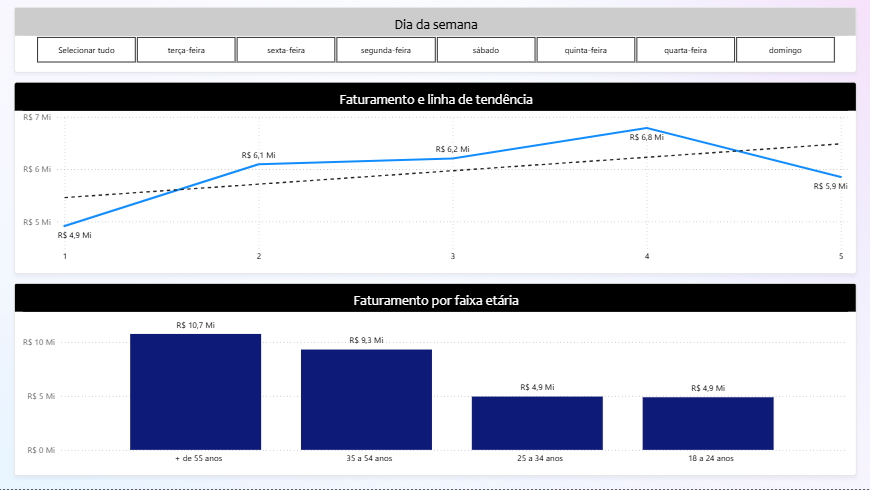

The page's visual inventory and layout, read from the dashboard file:
{"tool":"powerbi","page":{"name":"Análise temporal","canvas":[1280,720],"ordinal":2},"visuals":[{"type":"lineChart","title":"Faturamento e linha de tendência","fields":{"Category":["BaseVendas.Mês venda"],"Y":["BaseVendas.Total Vendas"]},"box":[25.2,124.3,1233,280.5],"z":0},{"type":"slicer","title":"Dia da semana","fields":{"Values":["BaseVendas.Dia semana venda"]},"box":[25.2,15.1,1233,95.7],"z":1000},{"type":"lineStackedColumnComboChart","title":"Faturamento por faixa etária","fields":{"Y":["BaseVendas.Total Vendas"],"Category":["BaseVendas.Faixa etaria "]},"box":[25.2,418.3,1233,282.2],"z":2000}]}

Visuals, with their boxes in screenshot pixels (x1, y1, x2, y2), scaled from the page's 1280x720 canvas onto the 870x490 screenshot:
"Faturamento e linha de tendência" lineChart: box(17, 85, 855, 275)
"Dia da semana" slicer: box(17, 10, 855, 75)
"Faturamento por faixa etária" lineStackedColumnComboChart: box(17, 285, 855, 477)
